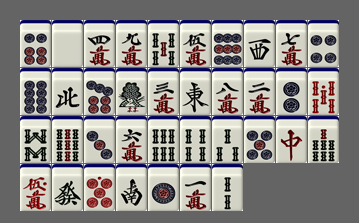0m: (20, 164, 51, 211)
0p: (84, 164, 115, 211)
0s: (308, 68, 339, 115)
1m: (180, 164, 211, 211)
1p: (148, 164, 179, 211)
1s: (116, 68, 147, 115)
1z: (180, 68, 211, 115)
2m: (244, 68, 275, 115)
2p: (276, 68, 307, 115)
2s: (212, 164, 243, 211)
2z: (116, 164, 147, 211)
3m: (148, 68, 179, 115)
3p: (84, 116, 115, 163)
3s: (212, 116, 243, 163)
3z: (244, 20, 275, 67)
4m: (84, 20, 115, 67)
4p: (308, 20, 339, 67)
4s: (180, 116, 211, 163)
4z: (52, 68, 83, 115)
5m: (180, 20, 211, 67)
5p: (244, 116, 275, 163)
5s: (148, 20, 179, 67)
5z: (52, 20, 83, 67)
6m: (116, 116, 147, 163)
6p: (20, 20, 51, 67)
6s: (148, 116, 179, 163)
6z: (52, 164, 83, 211)
7m: (276, 20, 307, 67)
7p: (84, 68, 115, 115)
7s: (308, 116, 339, 163)
7z: (276, 116, 307, 163)
8m: (212, 68, 243, 115)
8p: (20, 68, 51, 115)
8s: (20, 116, 51, 163)
9m: (116, 20, 147, 67)
9p: (212, 20, 243, 67)
9s: (52, 116, 83, 163)
